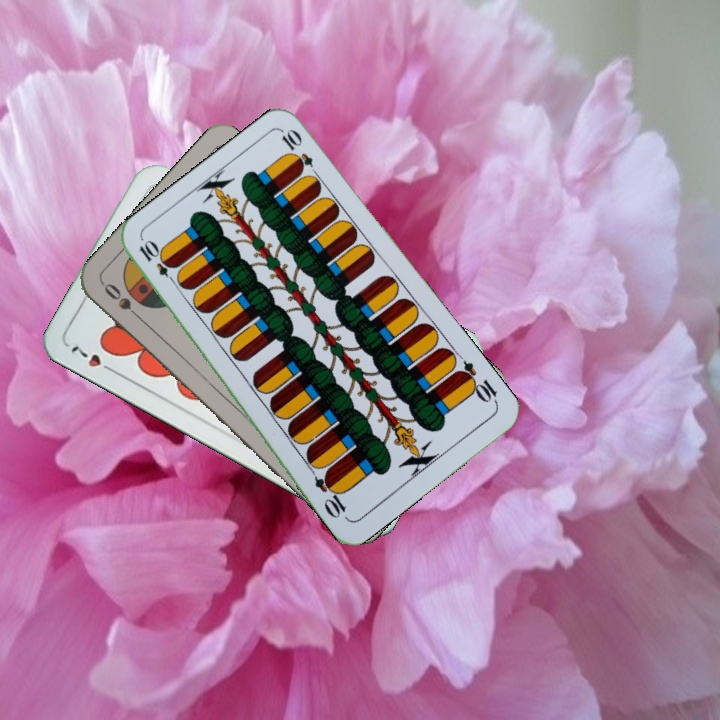E10: (452, 357, 501, 407), (135, 237, 181, 288)
H7: (66, 341, 119, 376)
SO: (99, 278, 146, 325)
